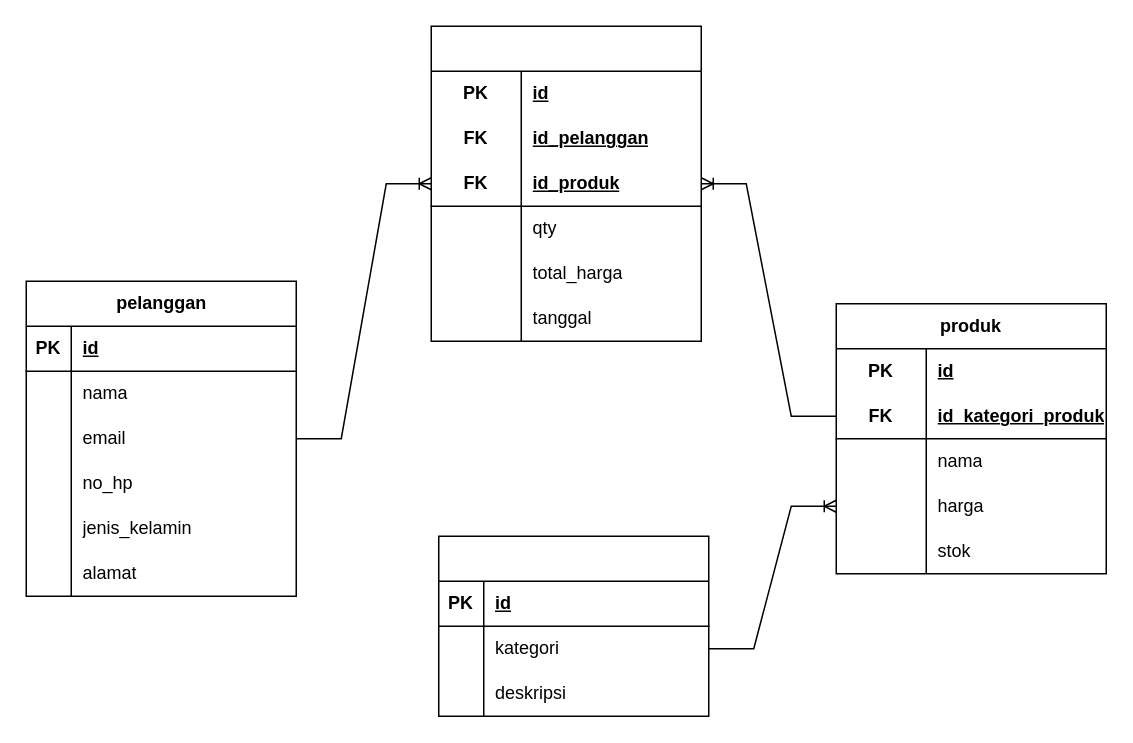
Image size: 1133x743. Some labels were removed from this diagram. Each missing label, with the box of its shape:
kategori_produk: (437, 535, 709, 716)
transaksi: (430, 25, 701, 341)
